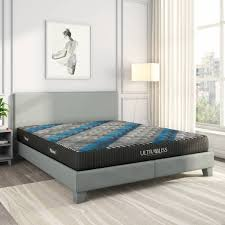bed-matress: (15, 119, 210, 172)
